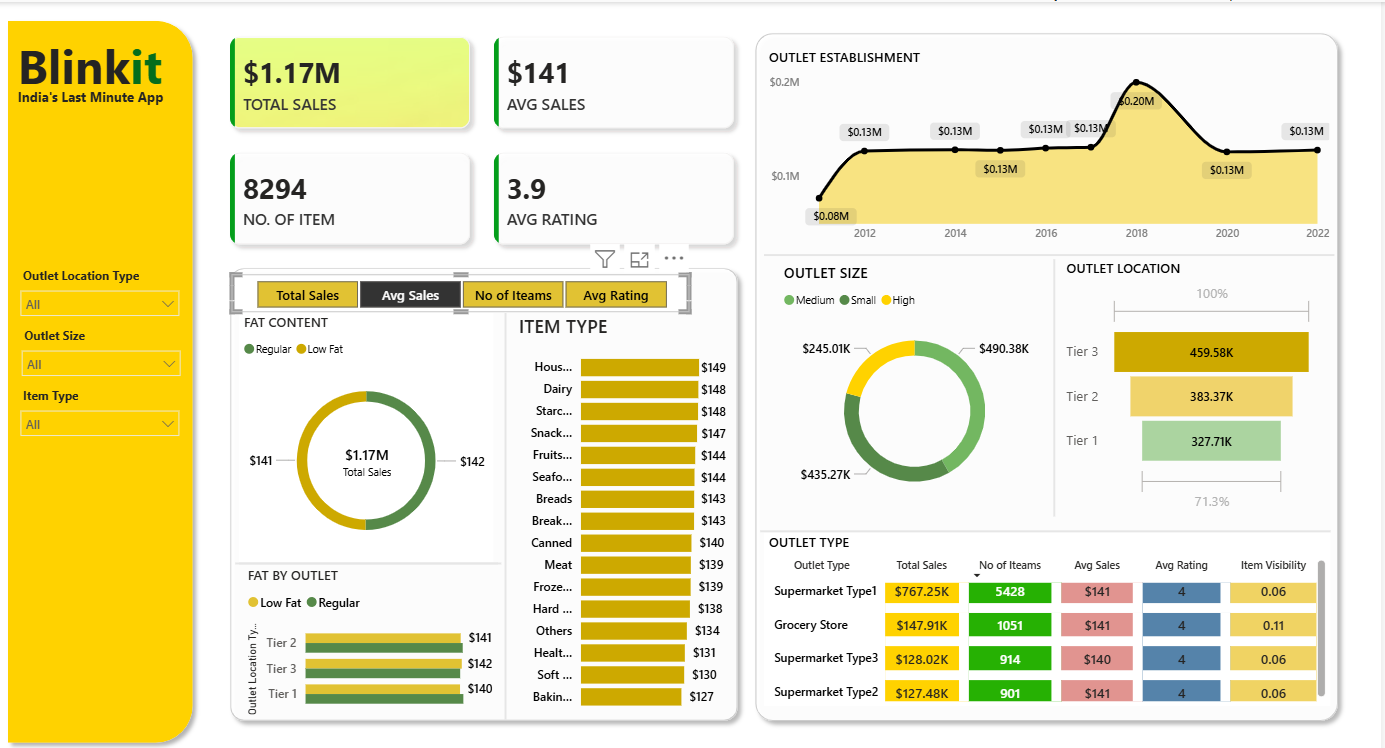

This screenshot's page, from the dashboard's own definition file:
{"tool":"powerbi","page":{"name":"DASHBOARD","canvas":[1400,800],"ordinal":0},"visuals":[{"type":"shape","box":[0,24.1,205.1,749.3],"z":0},{"type":"textbox","box":[13.4,40.2,181,85.8],"z":1000},{"type":"textbox","box":[13.4,96.5,315,59],"z":2000},{"type":"cardVisual","fields":{"Data":["BlinkIT Grocery Data.Total Sales","BlinkIT Grocery Data.Avg Sales","BlinkIT Grocery Data.No of Iteams","BlinkIT Grocery Data.Avg Rating"]},"box":[205.3,19.7,569.7,269.7],"z":3000},{"type":"shape","box":[225,275,531.6,476.3],"z":4000},{"type":"donutChart","title":"FAT CONTENT","fields":{"Y":["BlinkIT Grocery Data.Avg Sales"],"Category":["BlinkIT Grocery Data.Item Fat Content"]},"box":[243.4,328.9,257.9,253.9],"z":5000},{"type":"cardVisual","fields":{"Data":["BlinkIT Grocery Data.Total Sales"]},"box":[317.1,446.1,110.5,67.1],"z":6000},{"type":"slicer","fields":{"Values":["Metrics 2.Metrics"]},"box":[235.5,289.5,464.5,39.5],"z":7000},{"type":"clusteredBarChart","title":"FAT BY OUTLET","fields":{"Y":["BlinkIT Grocery Data.Avg Sales"],"Category":["BlinkIT Grocery Data.Outlet Location Type"],"Series":["BlinkIT Grocery Data.Item Fat Content"]},"box":[247.4,584.2,257.9,156.6],"z":8000},{"type":"shape","box":[243.4,571.1,265.8,23.7],"z":9000},{"type":"shape","box":[239.5,571.1,265.8,23.7],"z":10000},{"type":"shape","box":[505.3,328.9,15.8,411.8],"z":11000},{"type":"barChart","title":"ITEM TYPE","fields":{"Y":["BlinkIT Grocery Data.Avg Sales"],"Category":["BlinkIT Grocery Data.Item Type"]},"box":[521.1,328.9,219.7,411.8],"z":12000},{"type":"shape","box":[756.6,36.8,607.9,714.5],"z":13000},{"type":"lineChart","title":"OUTLET ESTABLISHMENT","fields":{"Category":["BlinkIT Grocery Data.Outlet Establishment Year"],"Y":["BlinkIT Grocery Data.Total Sales"]},"box":[775,60.5,577.6,205.3],"z":14000},{"type":"shape","box":[775,265.8,577.6,9.2],"z":15000},{"type":"donutChart","title":"OUTLET SIZE","fields":{"Y":["BlinkIT Grocery Data.Total Sales"],"Category":["BlinkIT Grocery Data.Outlet Size"]},"box":[789.5,277.6,275,255.3],"z":16000},{"type":"shape","box":[1060.5,275,15.8,260.5],"z":17000},{"type":"funnel","title":"OUTLET LOCATION","fields":{"Category":["BlinkIT Grocery Data.Outlet Location Type"],"Y":["Sum(BlinkIT Grocery Data.Sales)"]},"box":[1076.3,275,260.5,260.5],"z":18000},{"type":"shape","box":[771.1,546.1,577.6,9.2],"z":19000},{"type":"pivotTable","title":"OUTLET TYPE","fields":{"Rows":["BlinkIT Grocery Data.Outlet Type"],"Values":["BlinkIT Grocery Data.Total Sales","BlinkIT Grocery Data.No of Iteams","BlinkIT Grocery Data.Avg Sales","BlinkIT Grocery Data.Avg Rating","Avg(BlinkIT Grocery Data.Item Visibility)"]},"box":[775,551.3,573.7,175],"z":20000},{"type":"slicer","fields":{"Values":["BlinkIT Grocery Data.Outlet Location Type"]},"box":[11.8,278.9,181.6,60.5],"z":21000},{"type":"slicer","fields":{"Values":["BlinkIT Grocery Data.Outlet Size"]},"box":[13.2,339.5,181.6,60.5],"z":22000},{"type":"slicer","fields":{"Values":["BlinkIT Grocery Data.Item Type"]},"box":[11.8,400,181.6,60.5],"z":23000}]}

Visuals, with their boxes on the page's 1400x800 design canvas (x1, y1, x2, y2). These are canvas units, not pixel positions in the 1385x748 screenshot, which may show the page scaled, cropped or inside an application window:
shape: locate(0, 24, 205, 773)
textbox: locate(13, 40, 194, 126)
textbox: locate(13, 96, 328, 156)
cardVisual - BlinkIT Grocery Data.Total Sales x BlinkIT Grocery Data.Avg Sales: locate(205, 20, 775, 289)
shape: locate(225, 275, 757, 751)
"FAT CONTENT" donutChart: locate(243, 329, 501, 583)
cardVisual - BlinkIT Grocery Data.Total Sales: locate(317, 446, 428, 513)
slicer - Metrics 2.Metrics: locate(236, 290, 700, 329)
"FAT BY OUTLET" clusteredBarChart: locate(247, 584, 505, 741)
shape: locate(243, 571, 509, 595)
shape: locate(240, 571, 505, 595)
shape: locate(505, 329, 521, 741)
"ITEM TYPE" barChart: locate(521, 329, 741, 741)
shape: locate(757, 37, 1364, 751)
"OUTLET ESTABLISHMENT" lineChart: locate(775, 60, 1353, 266)
shape: locate(775, 266, 1353, 275)
"OUTLET SIZE" donutChart: locate(790, 278, 1064, 533)
shape: locate(1060, 275, 1076, 536)
"OUTLET LOCATION" funnel: locate(1076, 275, 1337, 536)
shape: locate(771, 546, 1349, 555)
"OUTLET TYPE" pivotTable: locate(775, 551, 1349, 726)
slicer - BlinkIT Grocery Data.Outlet Location Type: locate(12, 279, 193, 339)
slicer - BlinkIT Grocery Data.Outlet Size: locate(13, 340, 195, 400)
slicer - BlinkIT Grocery Data.Item Type: locate(12, 400, 193, 460)
